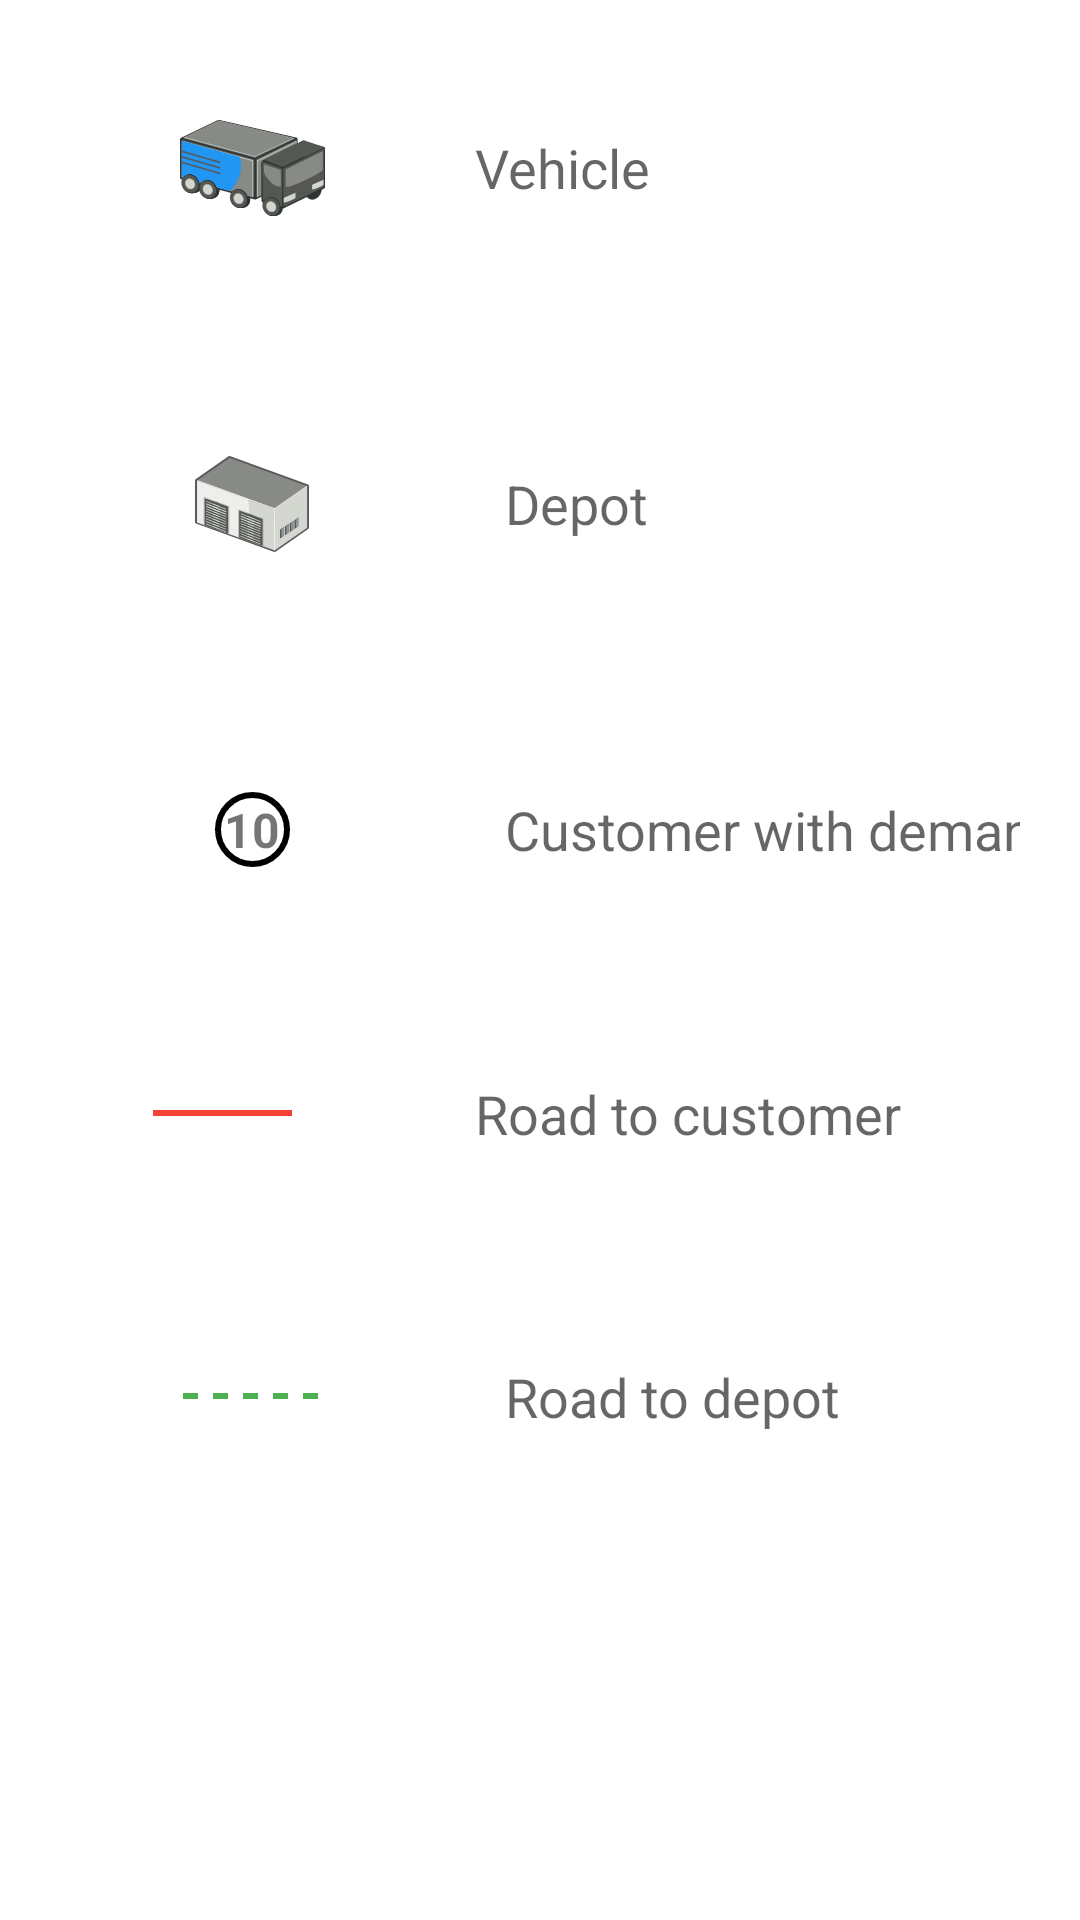

Named icons in this screenshot (1080x1920) and their bounding boxes, (x1, y1, x2, y2):
depot: (195, 456, 309, 552)
